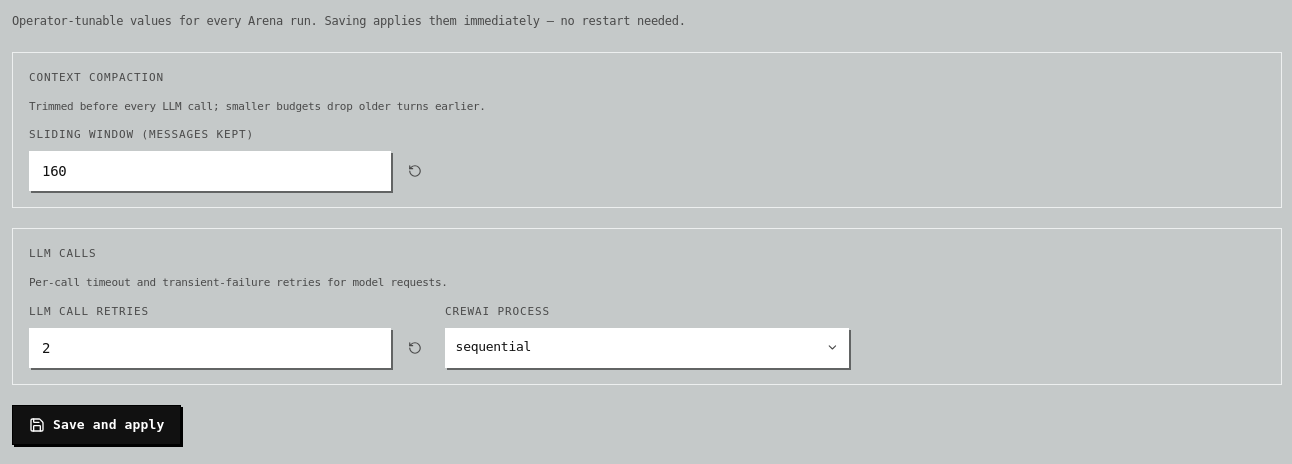
Scenario: RuntimeKnobsSection › resets one field to its metadata default
This screenshot has width=1292, height=464.
Replace the text in the field labelled "Sliding window (messages kept)" with "200" at (210, 171), box [29,151,391,191]
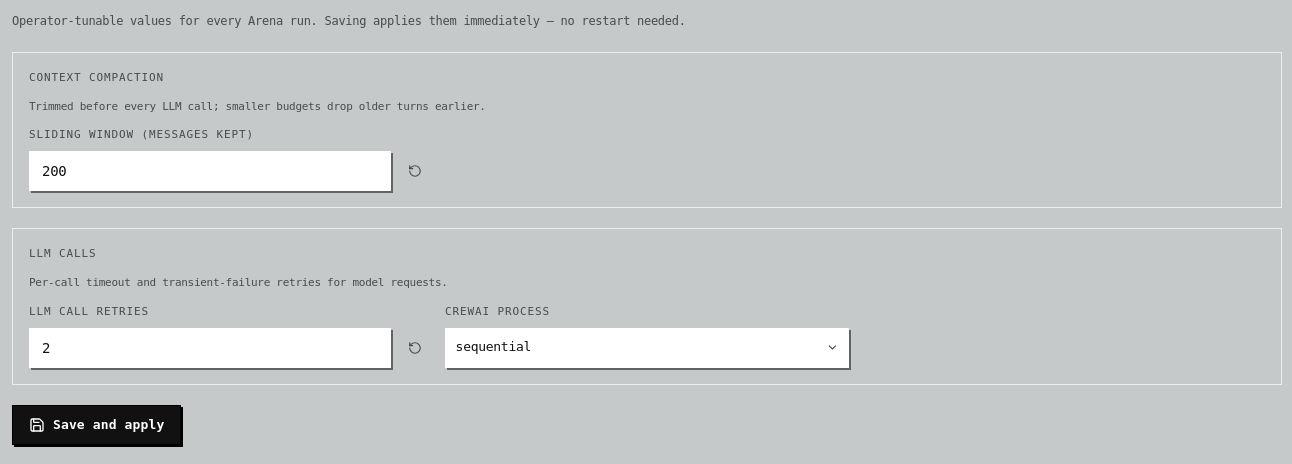
Click the button named "Reset to default" below "Sliding window (messages kept)".
click(415, 171)  # box [397,153,433,189]
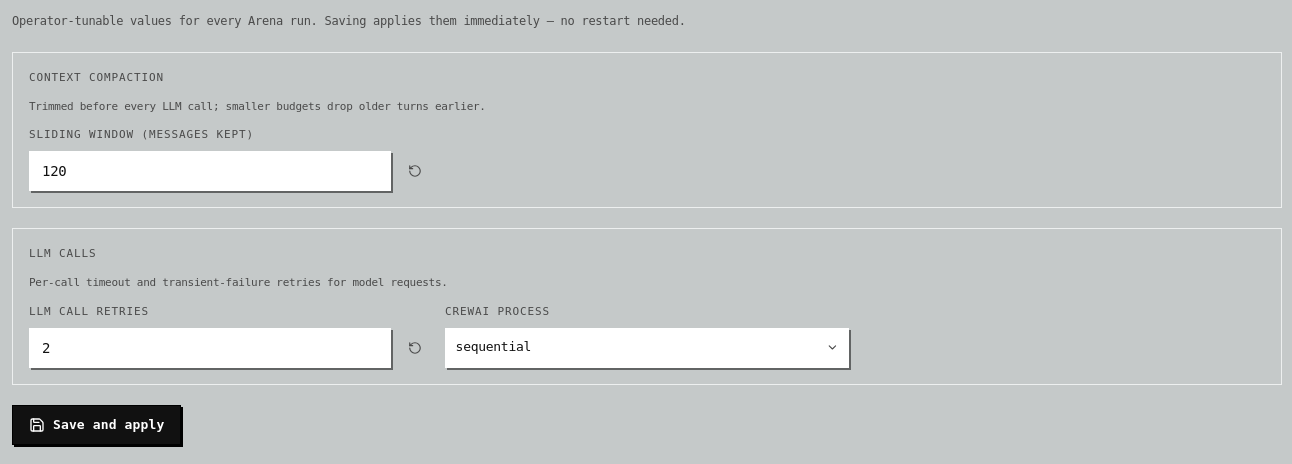
Expected: the field labelled "Sliding window (messages kept)" holds "120", [29,151,391,191]
